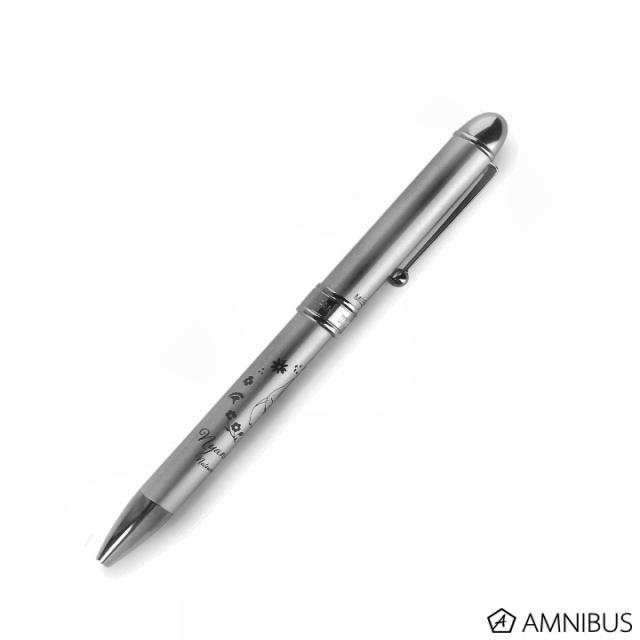Pen: (95, 110, 508, 570)
